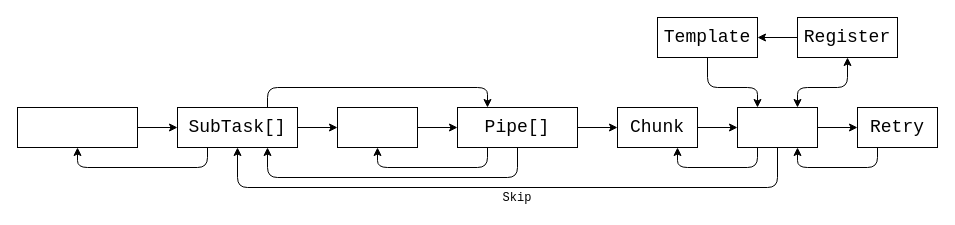
Image size: 955x225. Some labels were removed from this diagram. Each missing label, with the centre of its shape:
AI: (377,127)
Execute: (777,127)
Task[]: (77,127)
